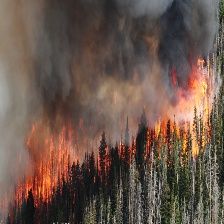fire: (153, 53, 217, 156), (8, 134, 106, 201)
smoke: (2, 2, 215, 131)
